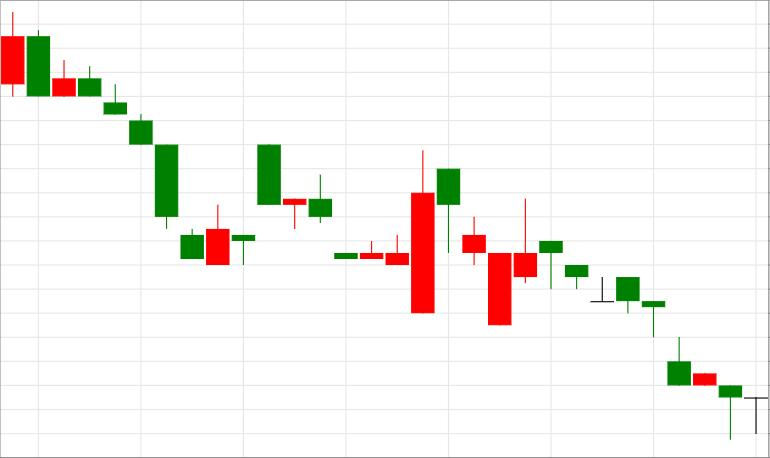bullish_engulfing_rise: (78, 66, 229, 265)
inverse_hammer_rise: (412, 149, 538, 325)
